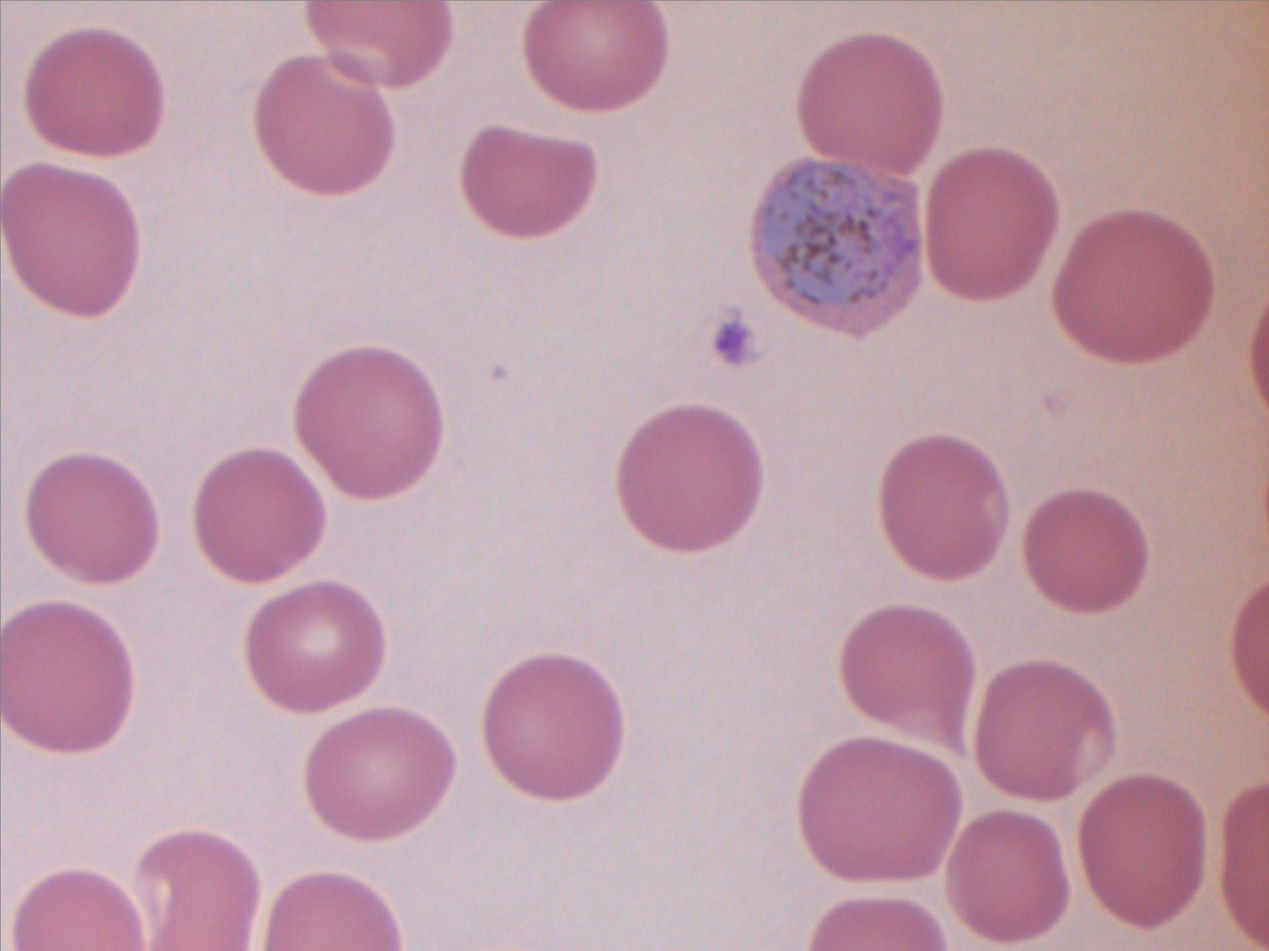Infected: (751, 159, 922, 335)
Uninfected: (1052, 212, 1214, 362), (799, 741, 960, 883), (0, 165, 140, 319), (296, 349, 441, 497), (621, 410, 767, 550), (798, 35, 944, 171), (0, 603, 133, 752), (924, 151, 1056, 299), (254, 56, 393, 196), (483, 658, 620, 800), (840, 608, 976, 750), (974, 663, 1113, 801), (303, 710, 450, 839), (1078, 777, 1203, 927), (879, 436, 1010, 578), (198, 446, 326, 586), (26, 28, 163, 157), (244, 584, 381, 712), (24, 455, 158, 585), (945, 813, 1067, 940), (1023, 491, 1147, 613), (525, 3, 665, 111), (137, 832, 261, 951), (461, 125, 593, 236), (309, 3, 452, 90), (13, 870, 140, 950), (263, 874, 396, 949), (808, 899, 943, 949)
